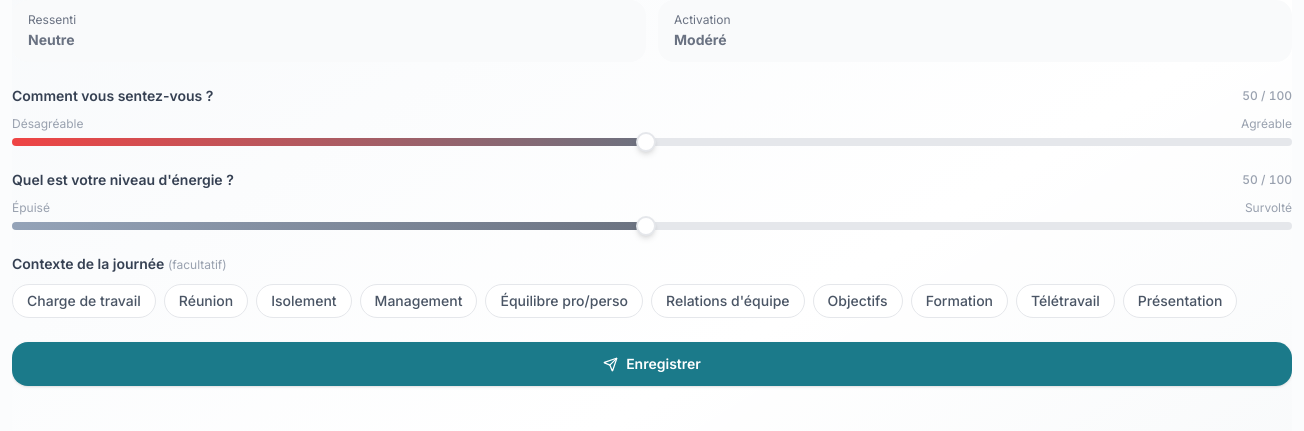
Scenario: MoodForm — Tags de contexte professionnel › permet de sélectionner plusieurs tags
Click the button "Réunion" at [206, 301], box [164,284,248,318]
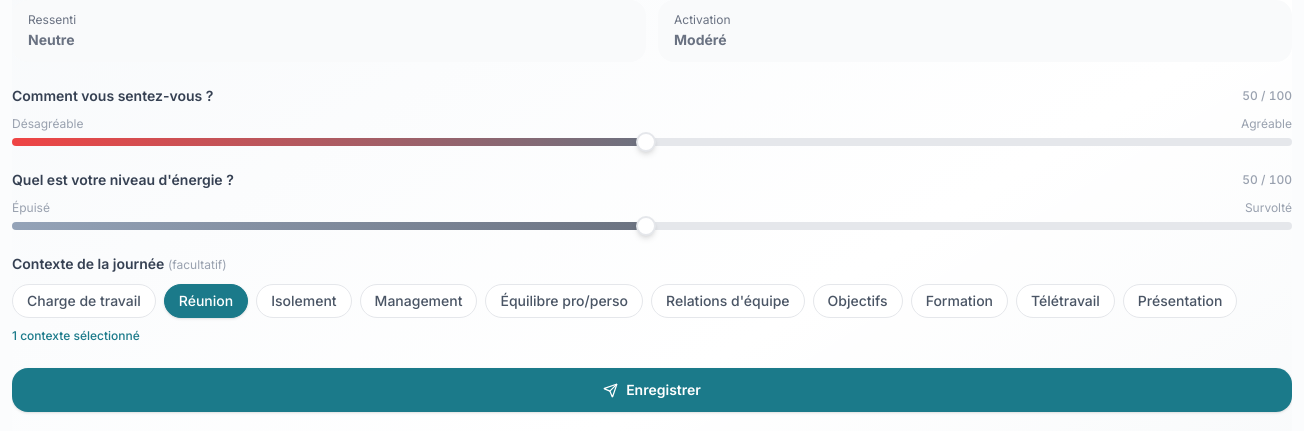
Click the button "Management" at [418, 301], box [360,284,477,318]
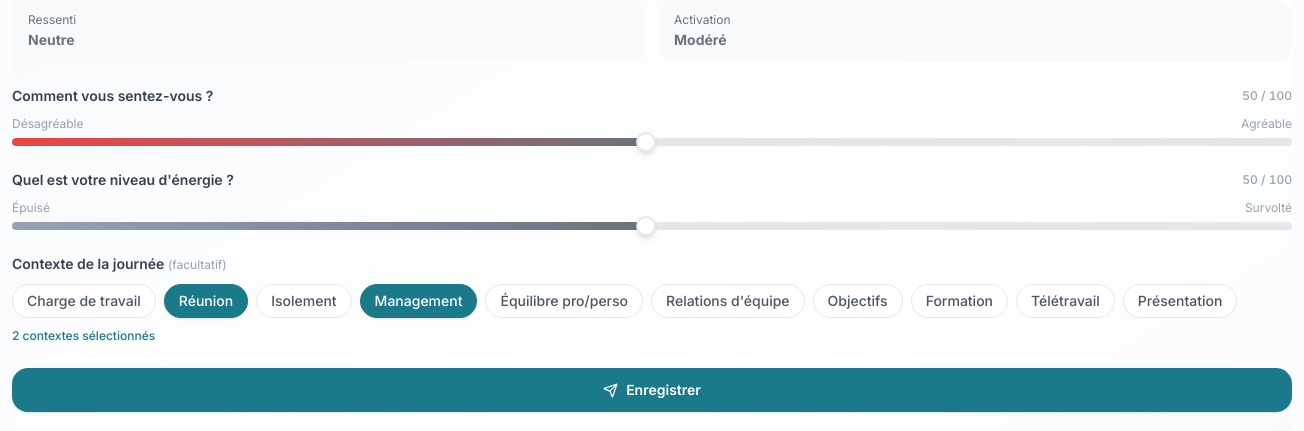
Check: the text "2 contextes sélectionnés" is shown, box [12,328,155,343]
